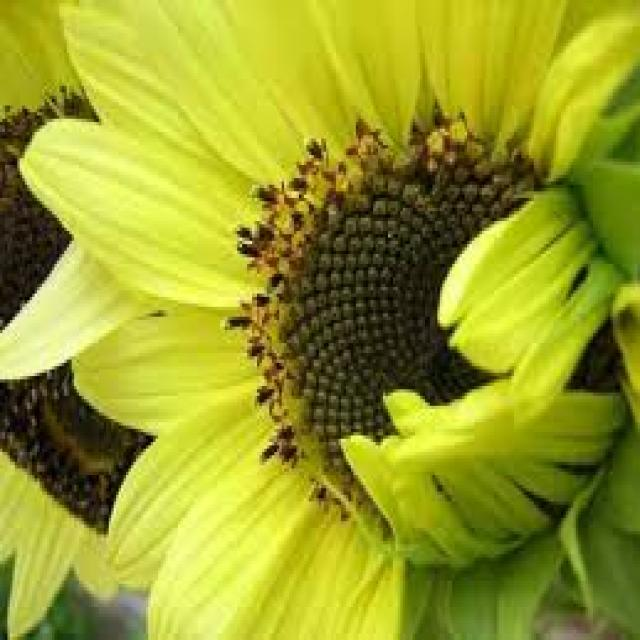sunflower: (0, 0, 640, 640), (0, 0, 388, 640)
